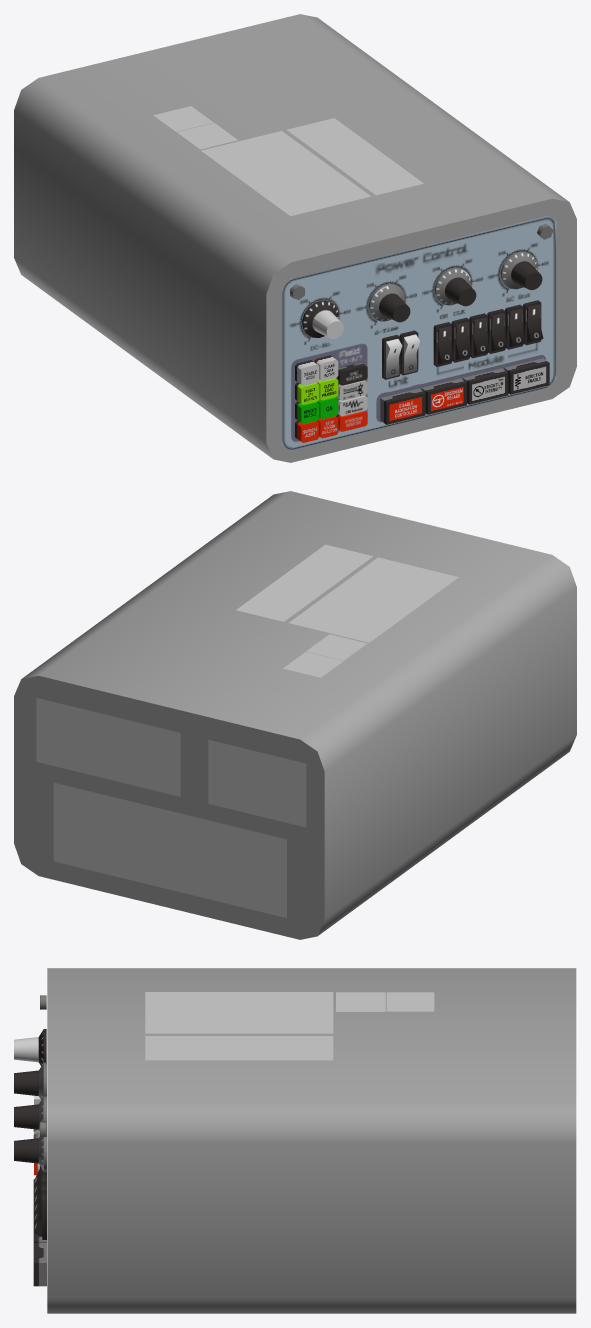
File: Prop_53_Box.fbx
3 renders of one model, top to bottom at view 1: azimuth 30°, elevation 25°; view 2: azimuth 150°, elevation 25°; view 3: azimuth 270°, elevation 25°, orthographic. The views are drawn at different scales.
Parts seen in each view (by area): view 1: Prop_53_Box, LOD_0.159; view 2: Prop_53_Box; view 3: Prop_53_Box, LOD_0.159.
Boxes of the visible parts, <box> form: Prop_53_Box: <box>14,14,576,462</box>; LOD_0.159: <box>281,215,556,450</box>; Prop_53_Box: <box>14,491,576,939</box>; Prop_53_Box: <box>47,968,576,1313</box>; LOD_0.159: <box>14,995,46,1286</box>.
Size of what is drawn, in the model's own units: 0.3496 by 0.2161 by 0.5231.
